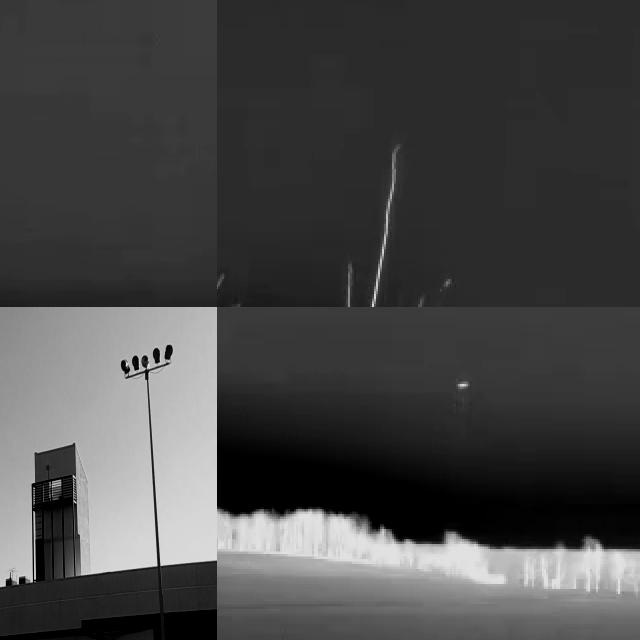0: (438, 270, 460, 298)
1: (444, 369, 482, 411)
drone: (39, 307, 57, 314)
